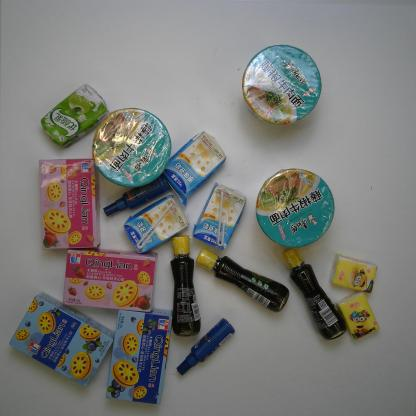Dessert: (7, 289, 117, 389), (104, 303, 176, 407), (60, 244, 160, 314), (35, 156, 103, 251)
Instant Noodles: (240, 43, 323, 127), (254, 166, 336, 250), (90, 107, 172, 188)
Milk: (159, 129, 228, 209), (38, 81, 113, 151), (122, 193, 192, 257), (191, 180, 248, 252)
Personal Hygiene: (174, 316, 238, 377), (102, 172, 172, 218)
Seasoner: (278, 244, 349, 344), (192, 246, 290, 314), (168, 234, 202, 338)
Tissue: (335, 288, 382, 341), (327, 252, 379, 295)
